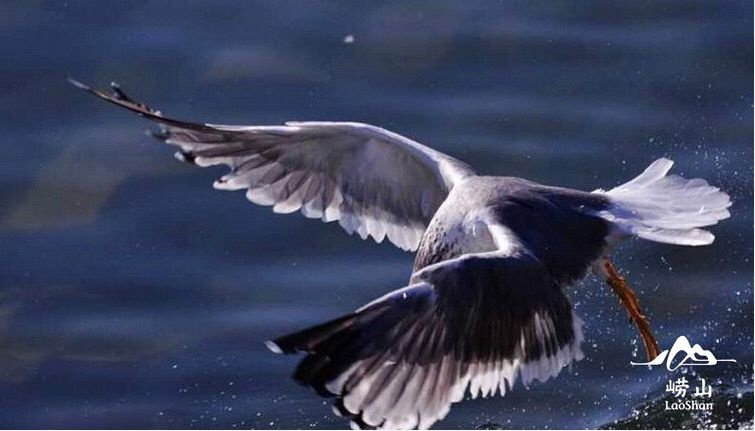bird: (66, 69, 732, 427)
